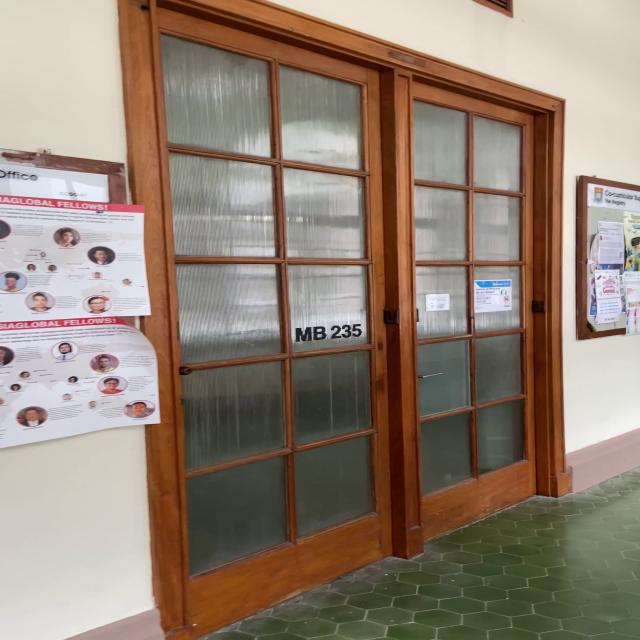room235Window: (292, 320, 365, 344)
